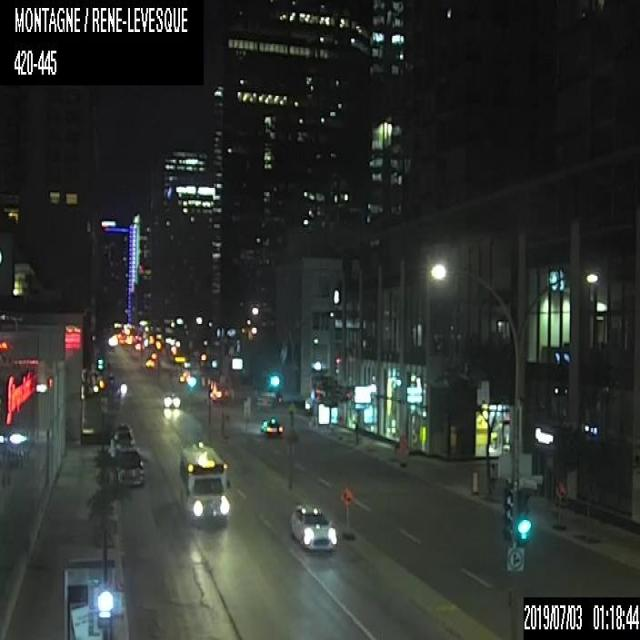bus: (177, 441, 228, 524)
construction: (341, 486, 354, 534), (554, 476, 566, 525), (398, 434, 407, 466)
vehicle: (288, 503, 336, 552), (111, 446, 143, 484), (113, 424, 136, 453), (260, 415, 285, 436), (162, 390, 180, 406), (115, 382, 128, 393)
